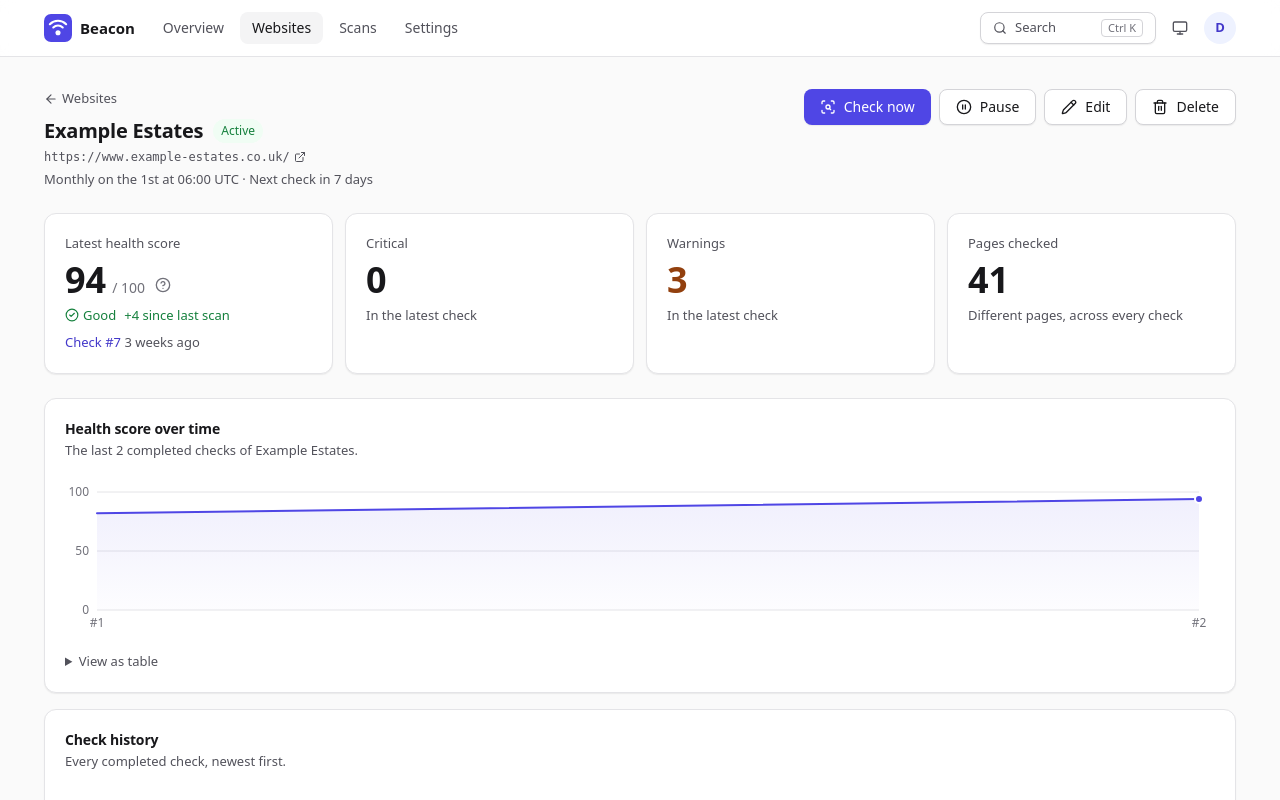
it: website detail › asks before deleting, then returns to the list
Click the button "Delete": [1186, 107] box [1135,89,1236,125]
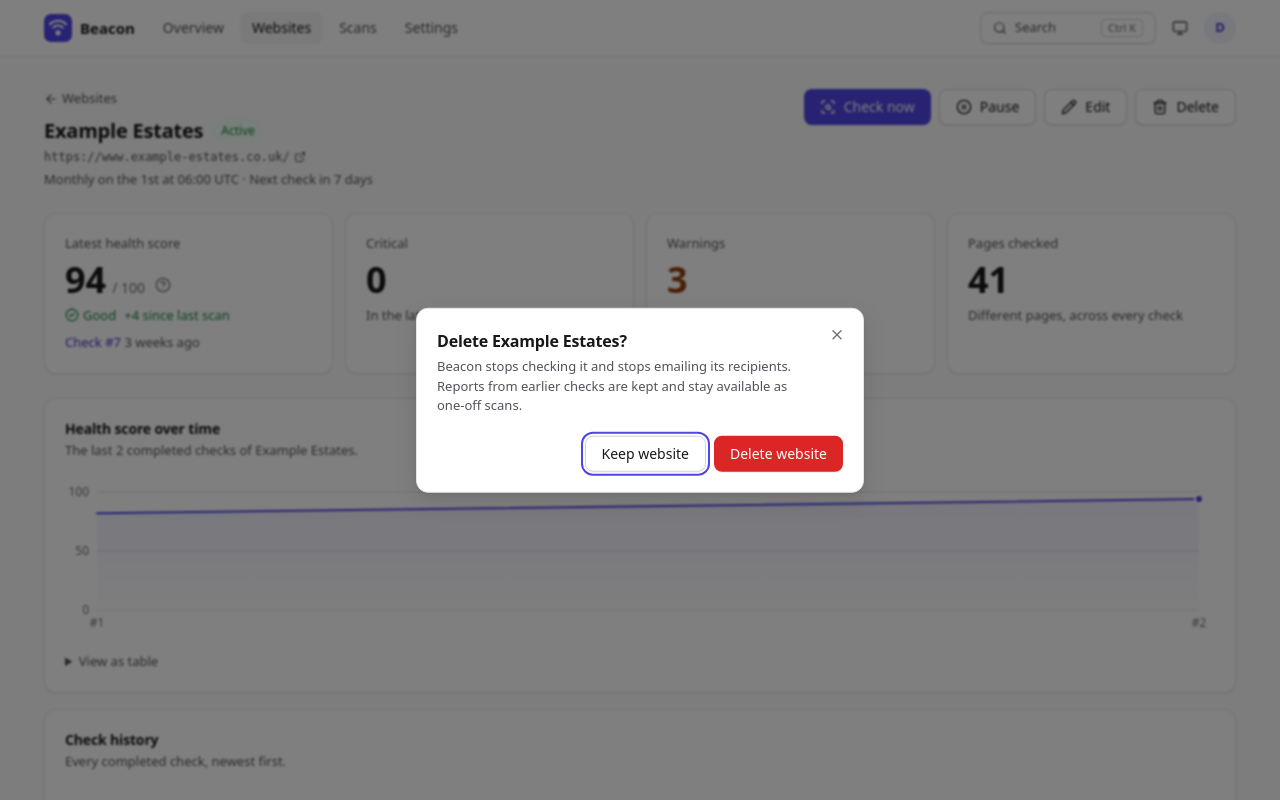
Click the button "Delete website": [778, 453] box [714,435,843,471]
(page scrolled)
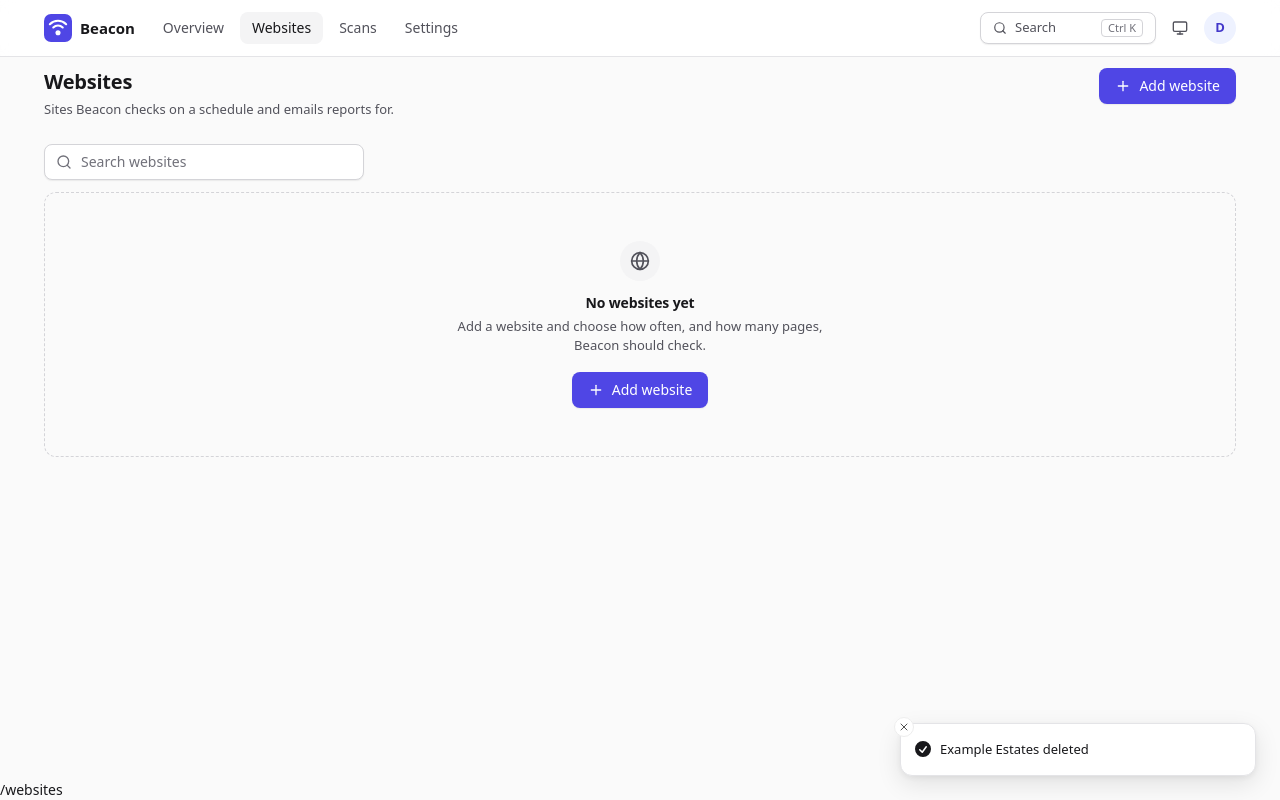
Expected: the text with test id "location" reads "/websites", [0,780,63,799]
